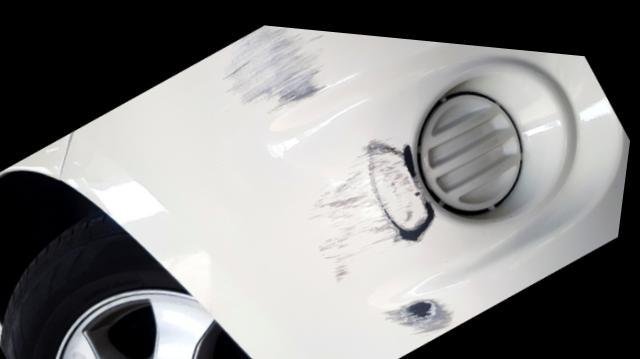scratch: (309, 123, 465, 327), (221, 20, 337, 104)
